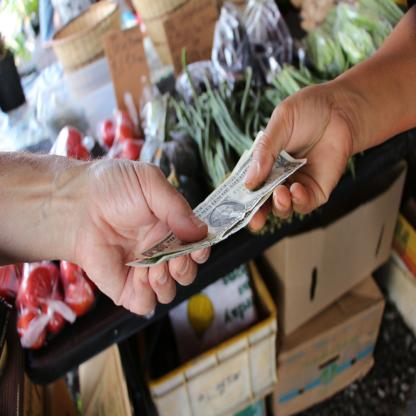billete: (121, 129, 306, 267)
